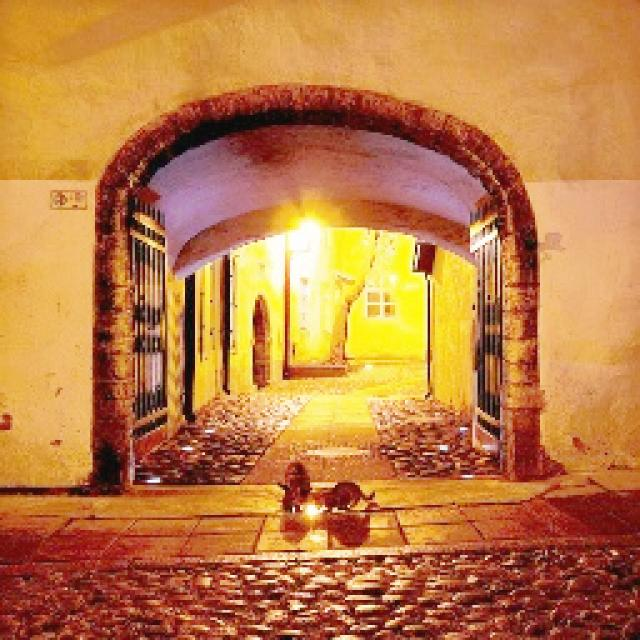cat: (319, 478, 381, 514), (276, 459, 312, 517)
